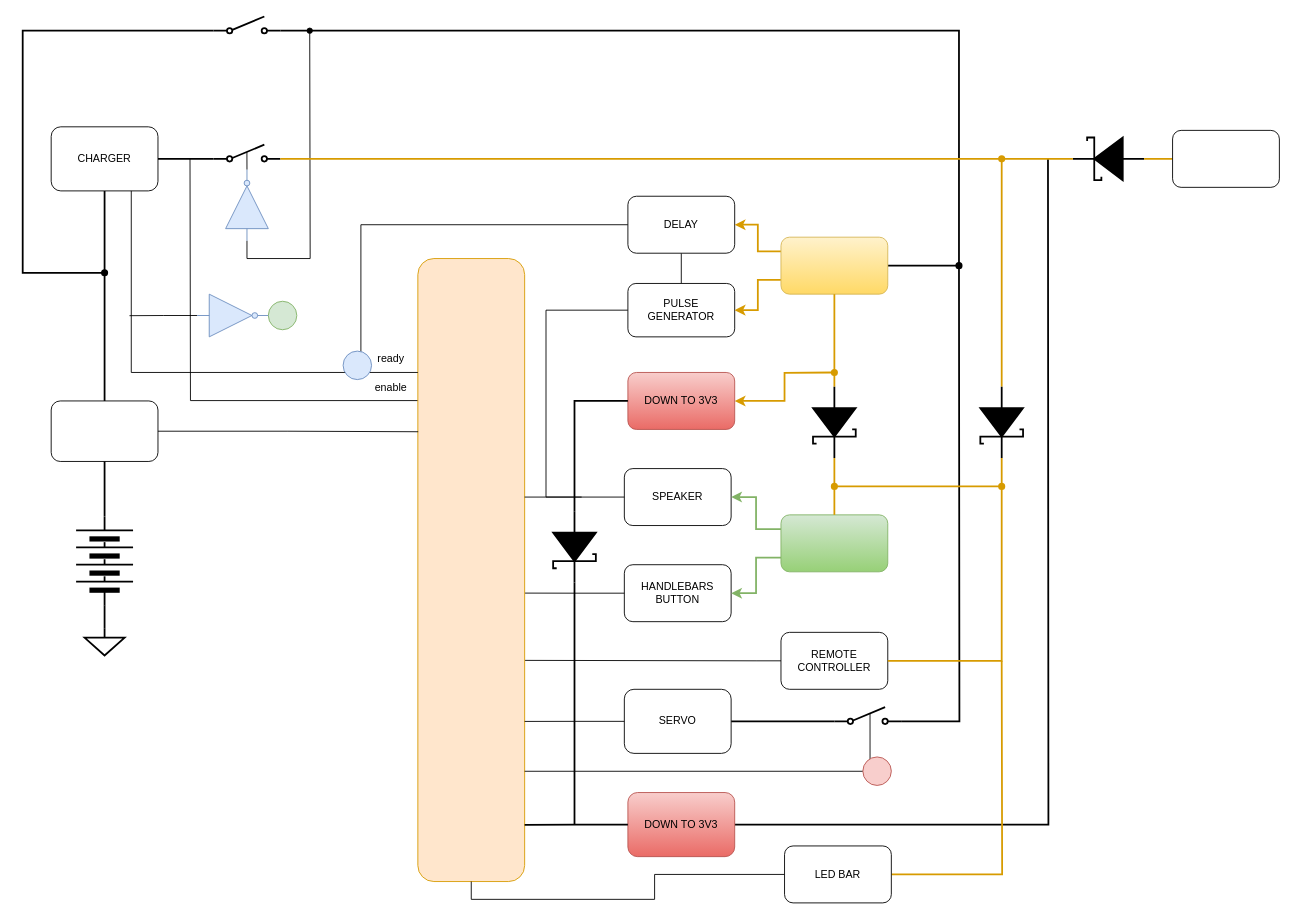
Some shapes in this 1295 by 918 pixel diagram are drawn without their labels. The centre of each missing label's shape, as x and y in pixels:
BMS: pixel 104 430
DOWN TO 5V: pixel 834 265
MCU: pixel 471 570
UP TO 12V: pixel 834 543
USB CONNECTOR: pixel 1225 158
